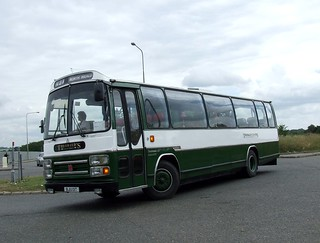bus: (42, 70, 280, 200)
